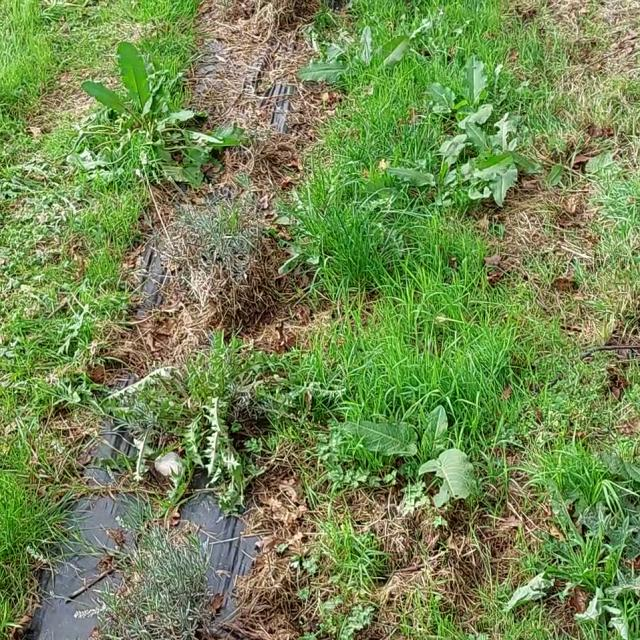organic waste: (71, 36, 244, 200), (313, 374, 492, 496), (274, 0, 428, 104), (411, 59, 528, 149), (390, 124, 527, 200)
